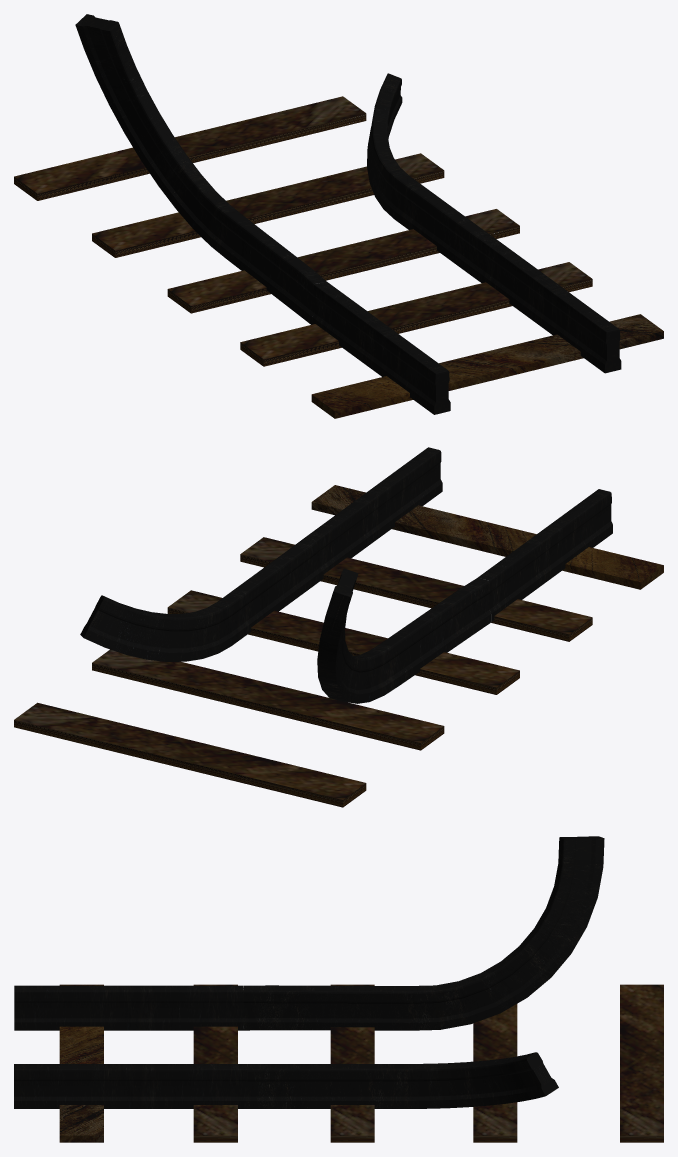
Rendered from track broken(short).fbx.
3 renders of one model, top to bottom at view 1: azimuth 30°, elevation 25°; view 2: azimuth 150°, elevation 25°; view 3: azimuth 270°, elevation 25°, orthographic. The views are drawn at different scales.
Visible parts, largest first — view 1: polySurface105; view 2: polySurface105; view 3: polySurface105.
Part boxes in pixels (bbox=[...]): polySurface105: bbox=[14, 14, 663, 418]; polySurface105: bbox=[14, 447, 663, 807]; polySurface105: bbox=[14, 836, 663, 1142].
Bounding box in the file's own units: 6.93 × 3.78 × 12.6.
2 materials, 2 textured.
